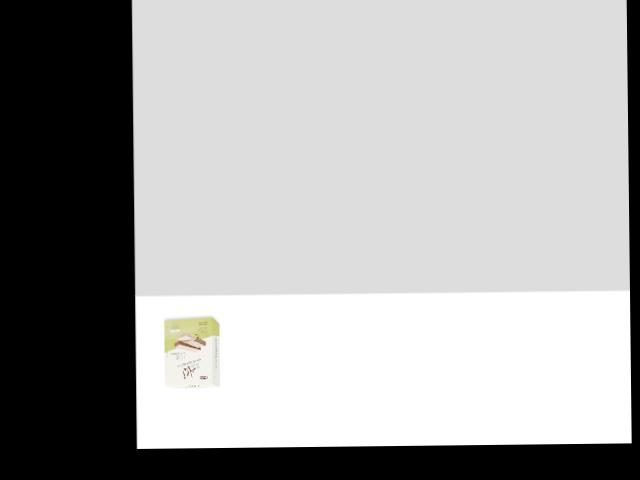chocolate: (162, 314, 224, 389)
